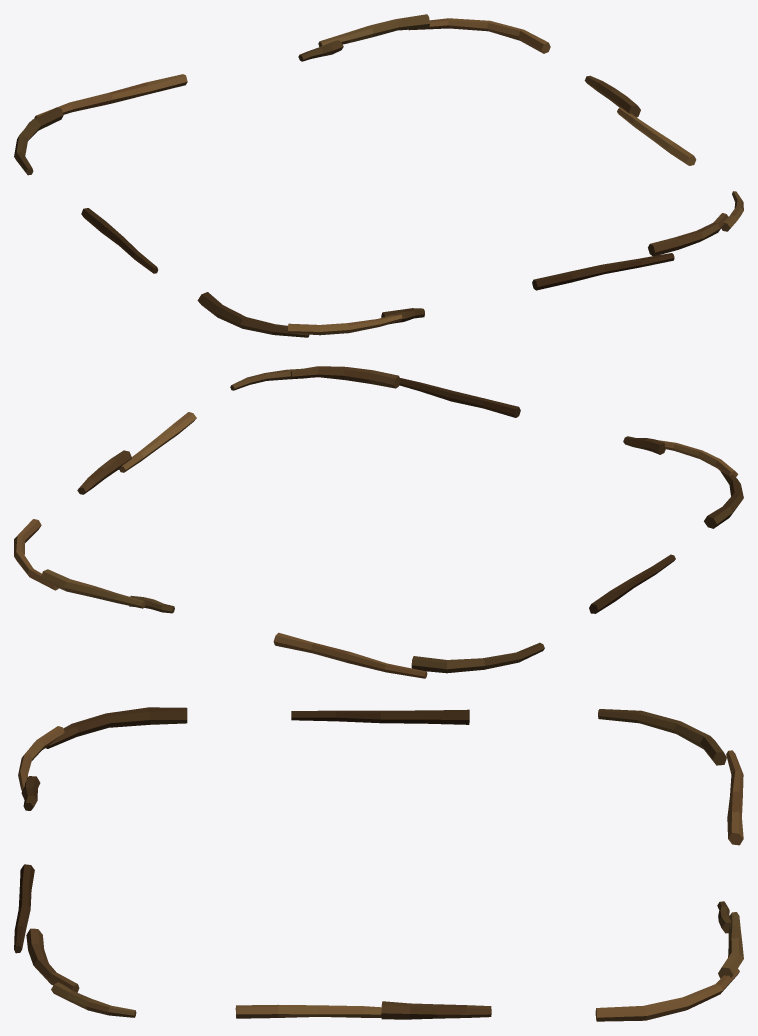
The model's file is deposit_site_2_finito.glb.
3 views of the same model, one above another, from view 1: azimuth 30°, elevation 25°; view 2: azimuth 150°, elevation 25°; view 3: azimuth 270°, elevation 25° (orthographic). The views are drawn at different scales.
Parts seen in each view (by area): view 1: deposit_site_2_finito; view 2: deposit_site_2_finito; view 3: deposit_site_2_finito.
Boxes of the visible parts, left/top/right/bottom form: deposit_site_2_finito: left=14, top=14, right=743, bottom=337; deposit_site_2_finito: left=14, top=366, right=743, bottom=678; deposit_site_2_finito: left=14, top=707, right=743, bottom=1021.
Size of the model in its own units: 8.43 by 0.2225 by 8.49.
